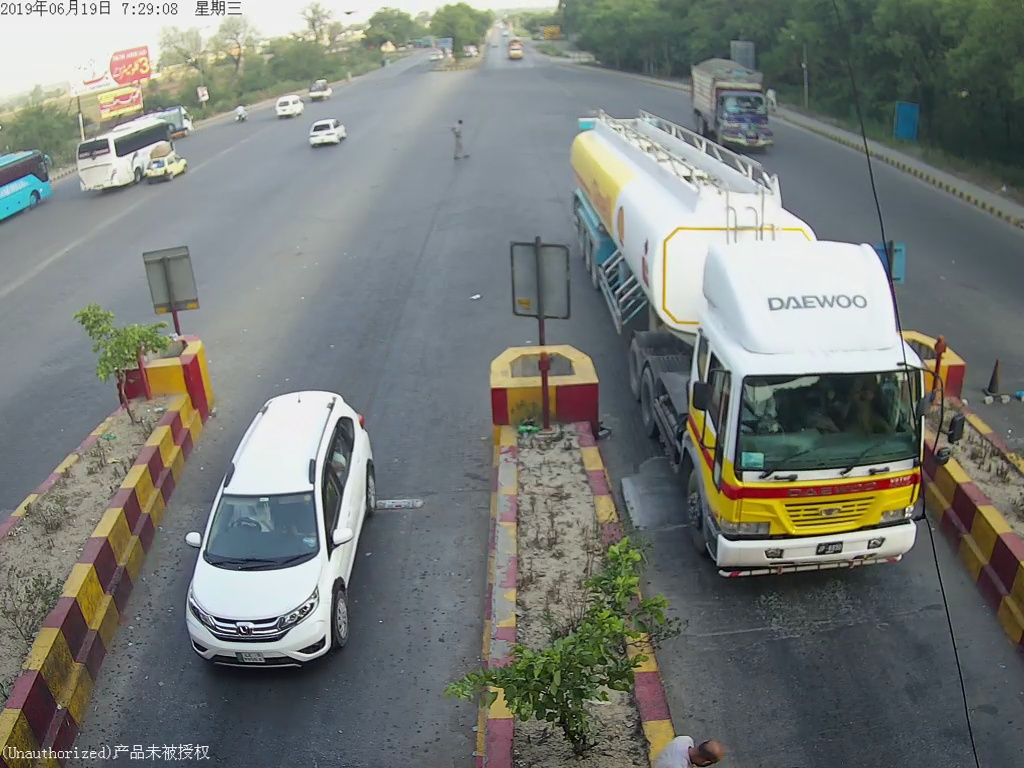Cat-1: (183, 395, 398, 676)
Cat-5: (562, 112, 927, 581)
